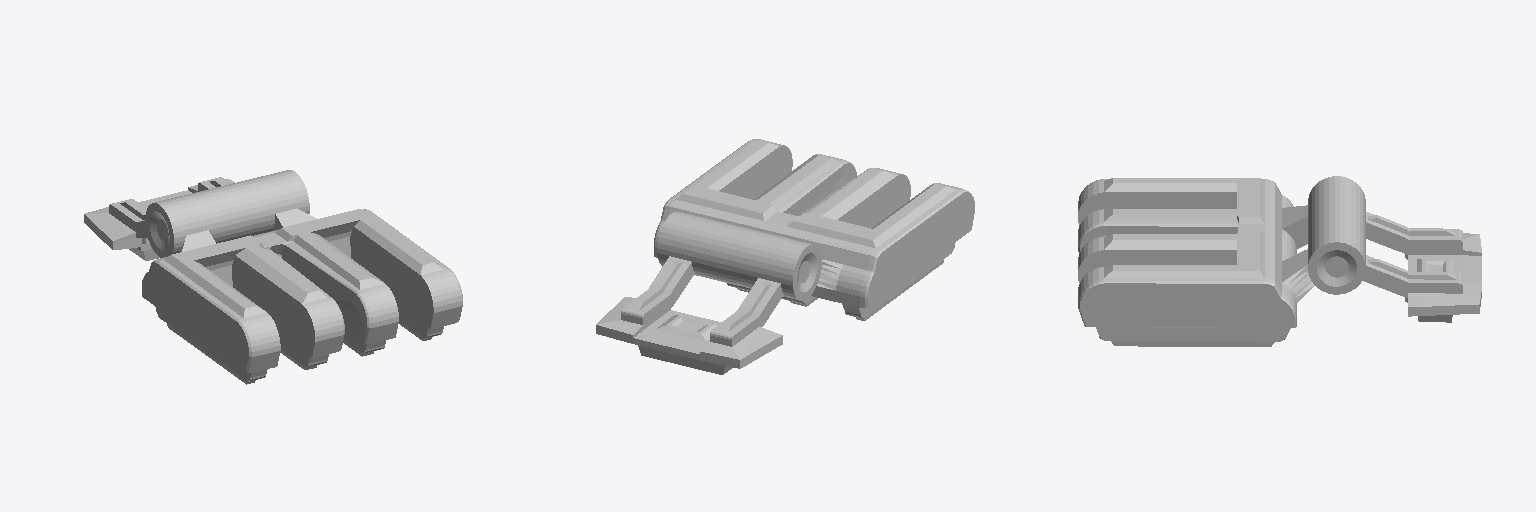
The model's file is foot_l.obj.
3 renders of one model, left to right at view 1: azimuth 30°, elevation 25°; view 2: azimuth 150°, elevation 25°; view 3: azimuth 270°, elevation 25°, orthographic.
Visible parts, largest first — view 1: foot_l_Cylinder.001; view 2: foot_l_Cylinder.001; view 3: foot_l_Cylinder.001.
Part boxes in pixels (x1,y1,x2,y2): foot_l_Cylinder.001: (84,170,462,384); foot_l_Cylinder.001: (596,139,974,374); foot_l_Cylinder.001: (1078,176,1481,346).
Size of the model in its own units: 0.4187 by 0.1747 by 0.6856.